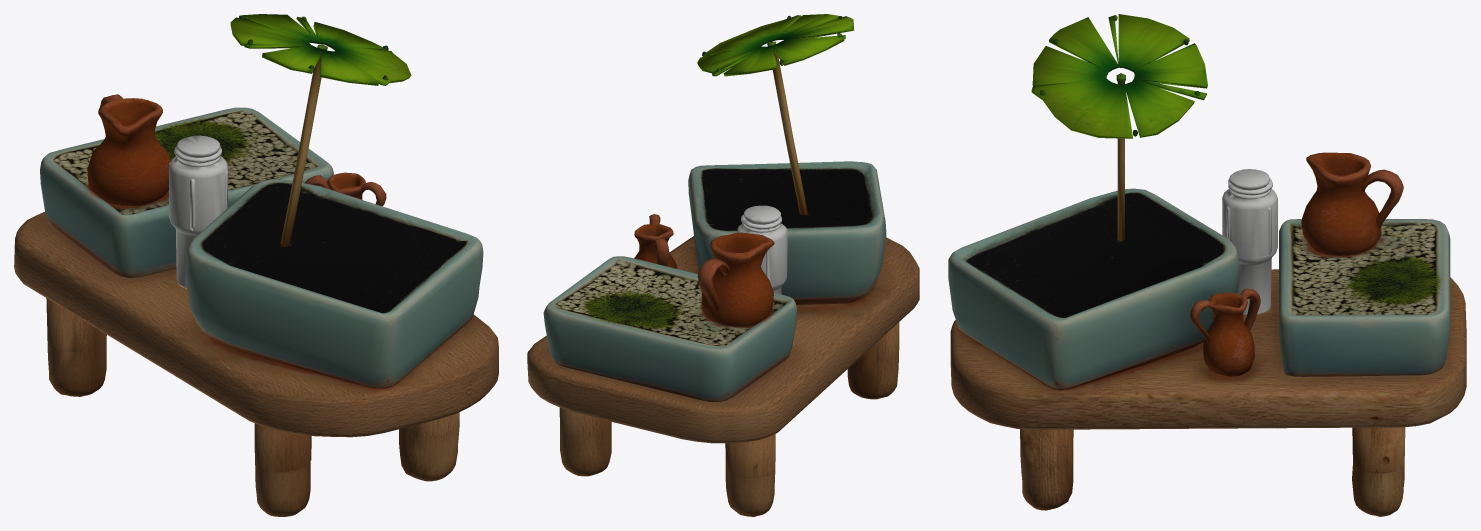
Rendered from moss-control-bench.glb.
3 renders of one model, left to right at view 1: azimuth 30°, elevation 25°; view 2: azimuth 150°, elevation 25°; view 3: azimuth 270°, elevation 25°, orthographic. The views are drawn at different scales.
Visible parts, largest first — view 1: tripo_node_6551107f-717e-41af-8c3f-815fcd586cd4; view 2: tripo_node_6551107f-717e-41af-8c3f-815fcd586cd4; view 3: tripo_node_6551107f-717e-41af-8c3f-815fcd586cd4.
Boxes of the visible parts, left/top/right/bottom form: tripo_node_6551107f-717e-41af-8c3f-815fcd586cd4: left=14, top=14, right=498, bottom=516; tripo_node_6551107f-717e-41af-8c3f-815fcd586cd4: left=527, top=14, right=919, bottom=516; tripo_node_6551107f-717e-41af-8c3f-815fcd586cd4: left=948, top=14, right=1466, bottom=516.
Bounding box in the file's own units: 0.6035 × 0.9043 × 0.998.
1 material, 1 textured.
